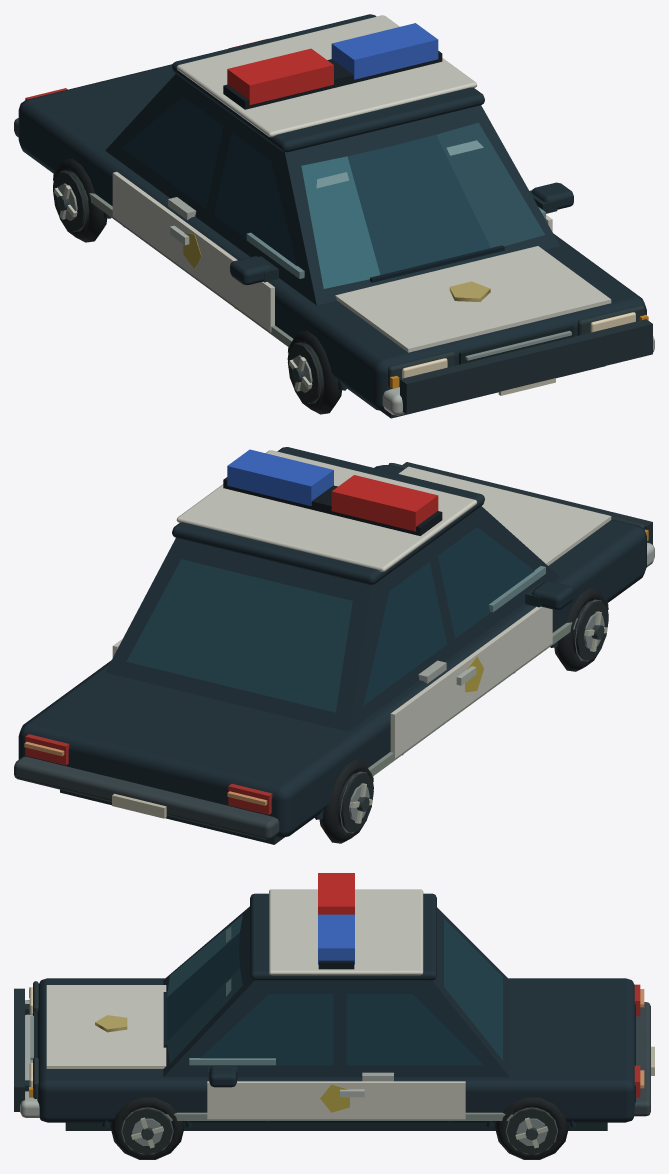
File: police.glb
3 renders of one model, top to bottom at view 1: azimuth 30°, elevation 25°; view 2: azimuth 150°, elevation 25°; view 3: azimuth 270°, elevation 25°, orthographic. The views are drawn at different scales.
Visible parts, largest first — view 1: police_body; view 2: police_body; view 3: police_body.
Boxes of the visible parts, <box> form: police_body: <box>14,14,654,418</box>; police_body: <box>14,447,654,844</box>; police_body: <box>14,873,654,1159</box>.
Size of the model in its own units: 2.29 by 1.58 by 4.68.
